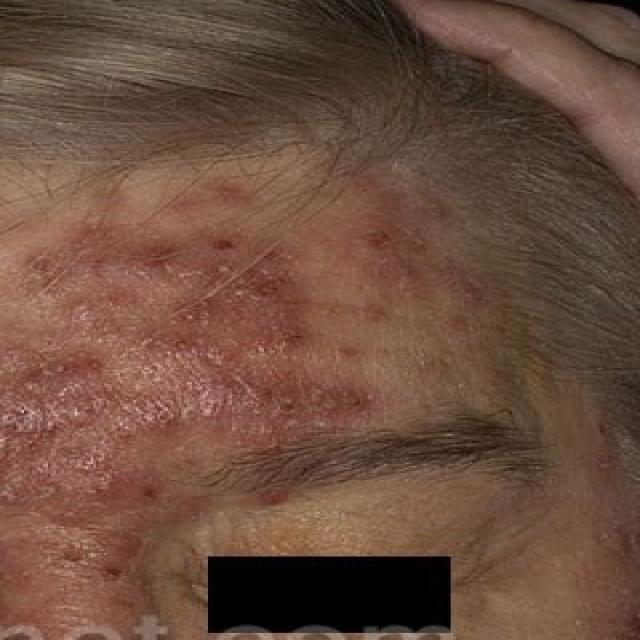Rosacea: (0, 241, 341, 435)
